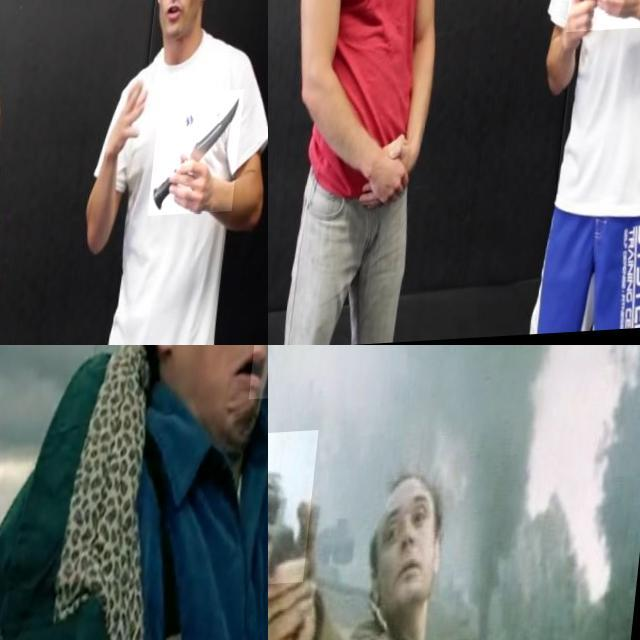-: (156, 96, 250, 222), (573, 0, 640, 76)
gun-knife-thesis - v11 Yolov5 augmented: (268, 434, 338, 591)
